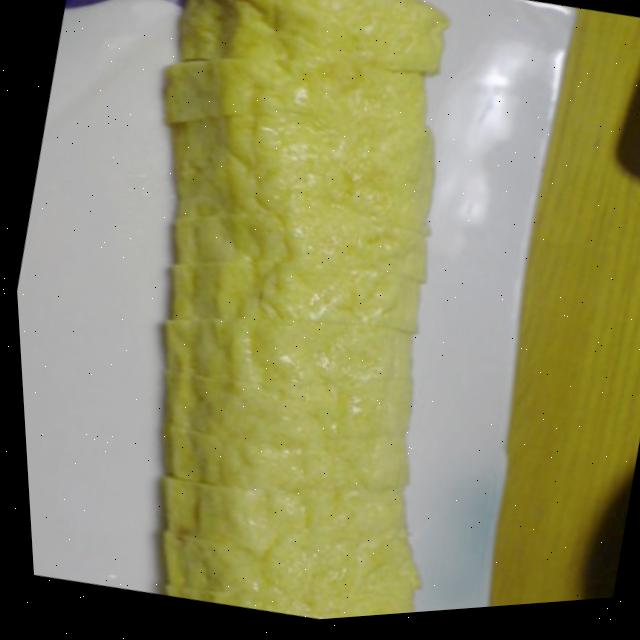鸡蛋料理: (59, 0, 537, 637)
